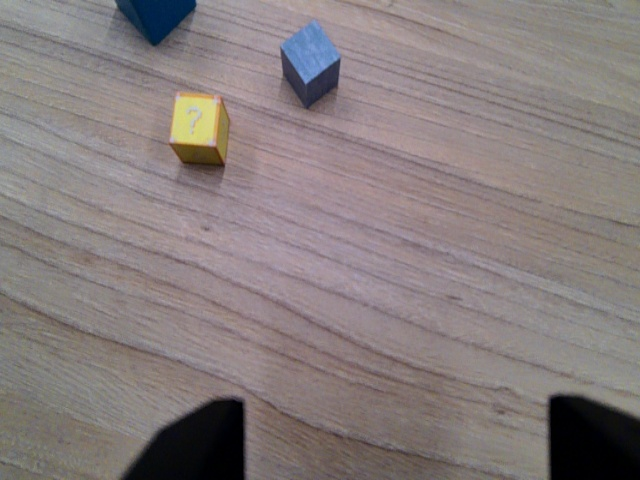lucky: (162, 83, 235, 174)
stone: (271, 17, 347, 112)
